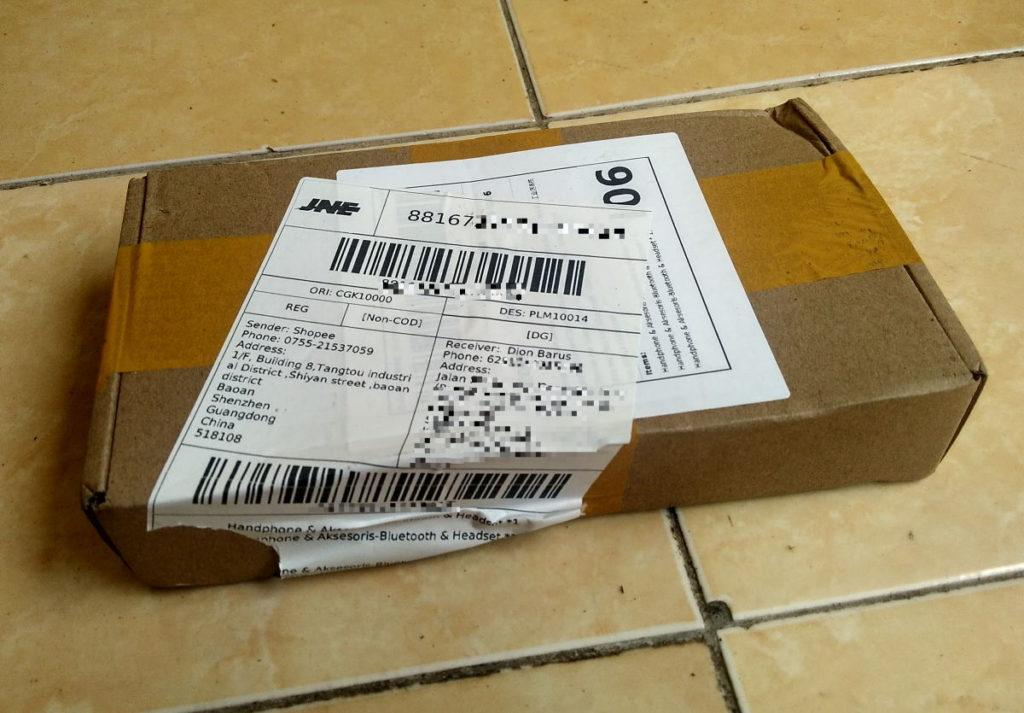undamaged: (60, 78, 1000, 616)
